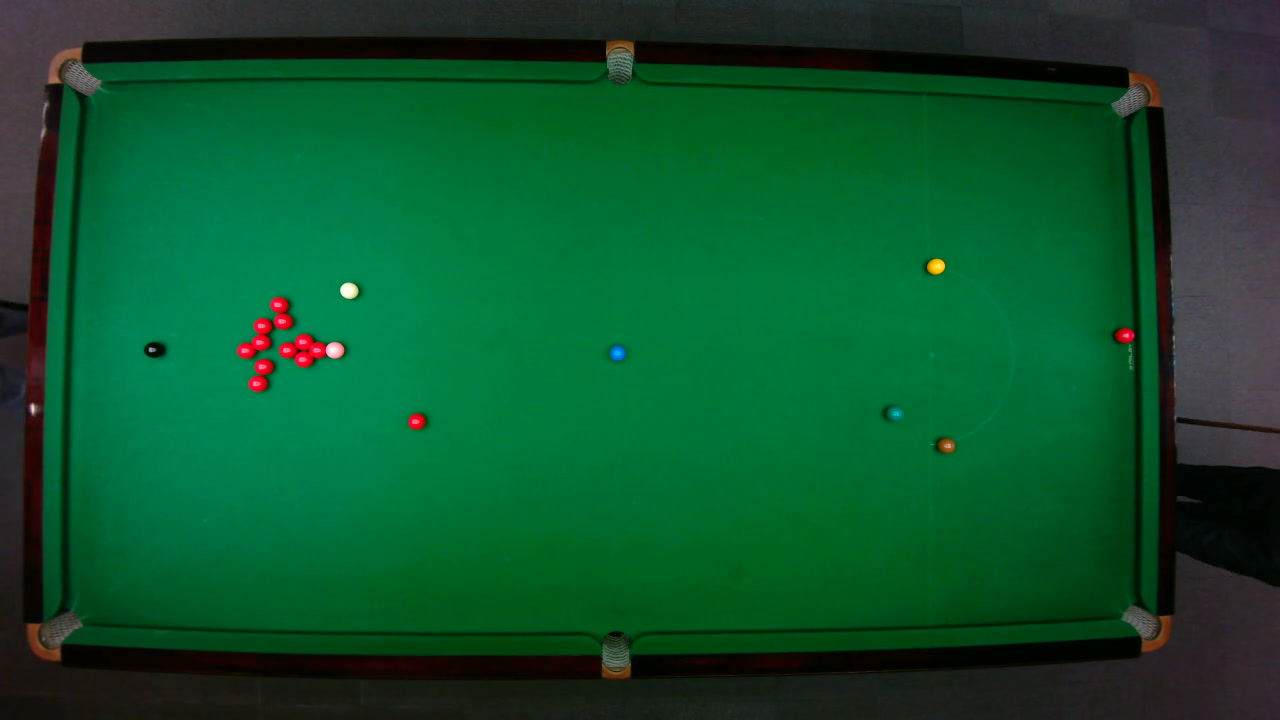bag: (25, 609, 84, 661), (45, 46, 101, 96), (1118, 603, 1172, 652), (1108, 71, 1161, 118), (601, 629, 630, 680), (605, 38, 633, 85)
black: (142, 340, 164, 358)
blue: (608, 344, 626, 361)
brown: (936, 436, 956, 453)
green: (883, 404, 904, 421)
pink: (323, 340, 345, 359)
red: (251, 316, 273, 334), (246, 374, 268, 392), (234, 340, 256, 358), (252, 357, 274, 375), (268, 295, 289, 313), (1113, 326, 1135, 343), (277, 340, 297, 358), (406, 412, 426, 430), (293, 350, 314, 367), (272, 312, 293, 329), (249, 333, 270, 350), (293, 332, 314, 349), (308, 340, 325, 358)
white: (338, 280, 359, 299)
yellow: (925, 257, 946, 274)
zone: (927, 266, 1013, 444)
